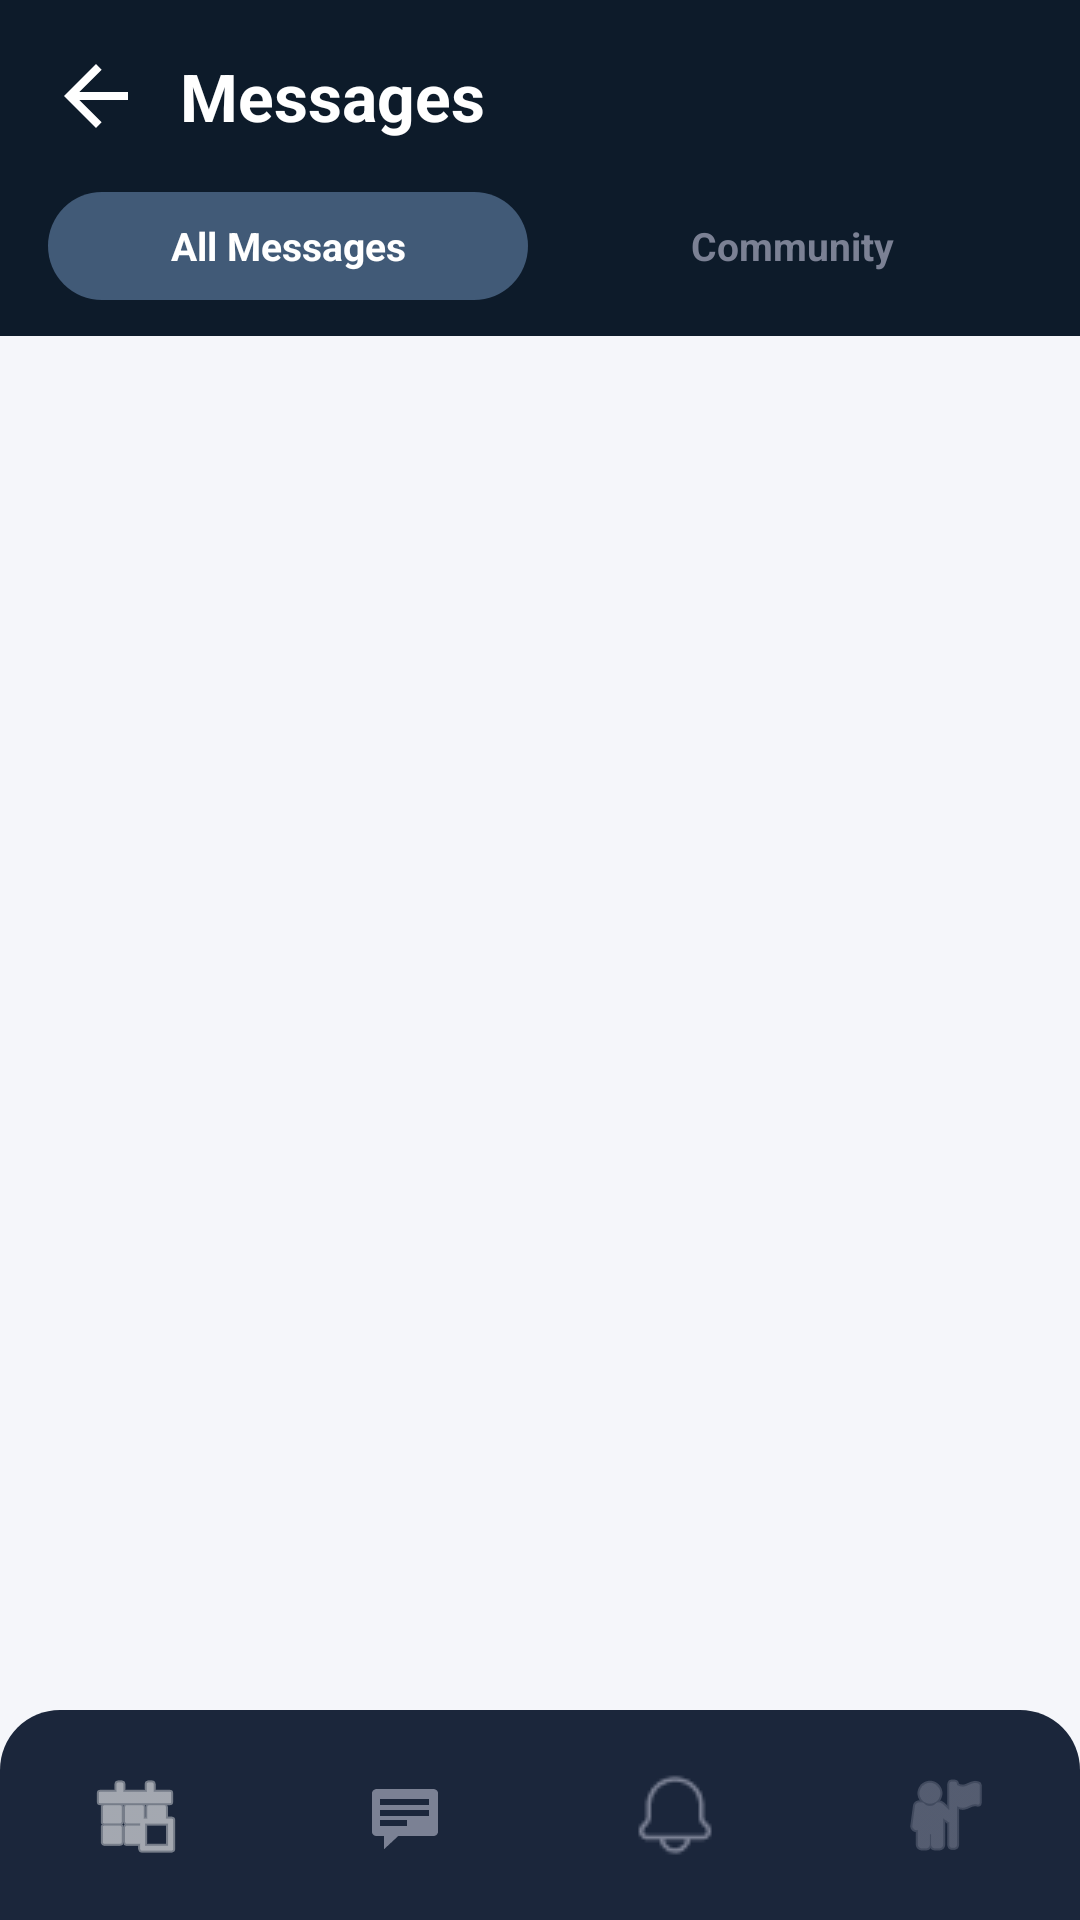

Where icons sit on this 1080px x 1920px app screen, as bbox(x1, y1, x2, y2):
Back: bbox(64, 64, 128, 128)
Chat: bbox(372, 1789, 438, 1849)
Notifications: bbox(638, 1776, 712, 1854)
